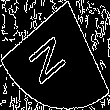N_NE: (31, 24, 79, 86)
